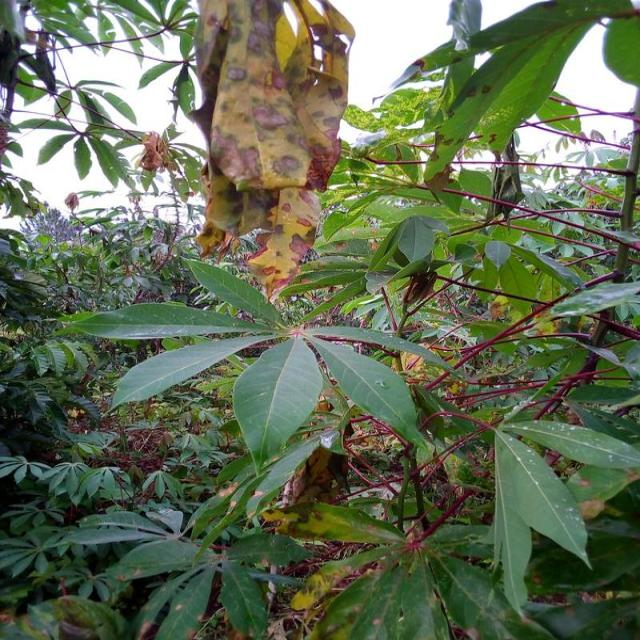cassava leaf: (490, 424, 593, 616)
